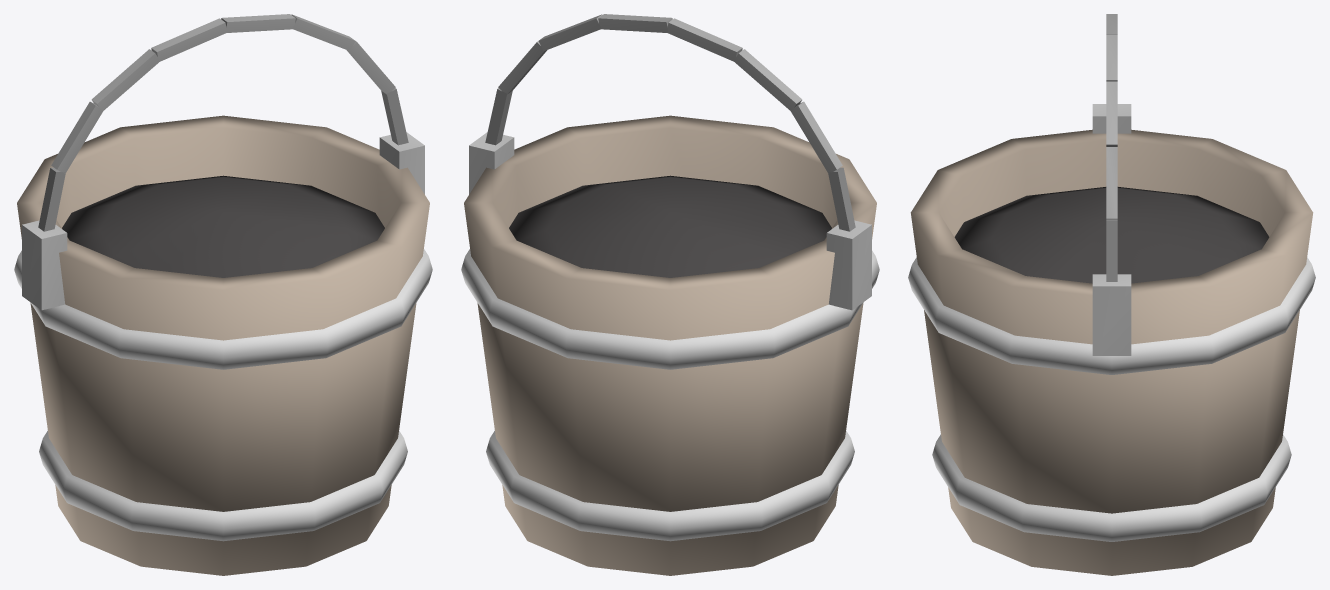
The model's file is coal_pail.glb.
3 renders of one model, left to right at view 1: azimuth 30°, elevation 25°; view 2: azimuth 150°, elevation 25°; view 3: azimuth 270°, elevation 25°, orthographic. The views are drawn at different scales.
Visible parts, largest first — view 1: bucket; view 2: bucket; view 3: bucket.
Part boxes in pixels (x1=…): bucket: x1=14, y1=14, x2=432, y2=575; bucket: x1=461, y1=14, x2=879, y2=575; bucket: x1=908, y1=14, x2=1315, y2=575.
Size of the model in its own units: 0.45 by 0.5449 by 0.4255.
